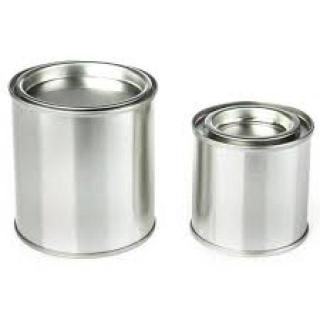Anorganik: (3, 51, 168, 261), (186, 91, 320, 257)
